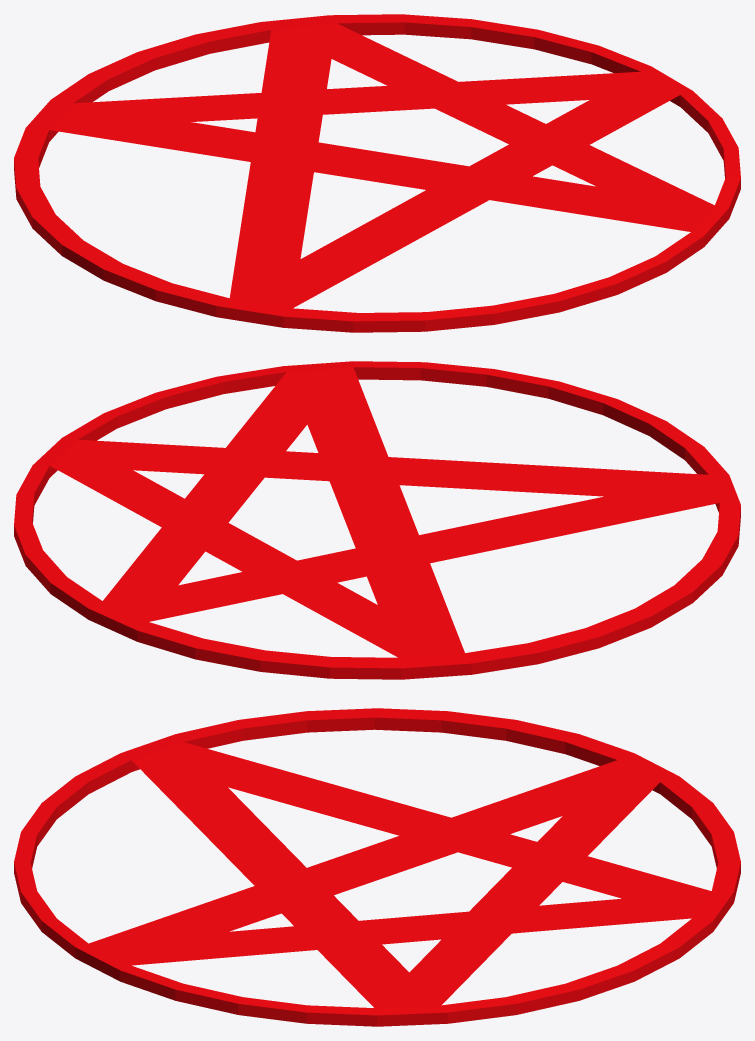
File: pentagram.fbx
The picture shows the model from 3 angles, top to bottom: view 1: azimuth 30°, elevation 25°; view 2: azimuth 150°, elevation 25°; view 3: azimuth 270°, elevation 25°; orthographic projection.
Parts seen in each view (by area): view 1: pentagram; view 2: pentagram; view 3: pentagram.
Boxes of the visible parts, x1=… form: pentagram: x1=14, y1=14, x2=740, y2=332; pentagram: x1=14, y1=361, x2=740, y2=679; pentagram: x1=14, y1=708, x2=740, y2=1026.
Bounding box in the file's own units: 209 × 209 × 3.89.
